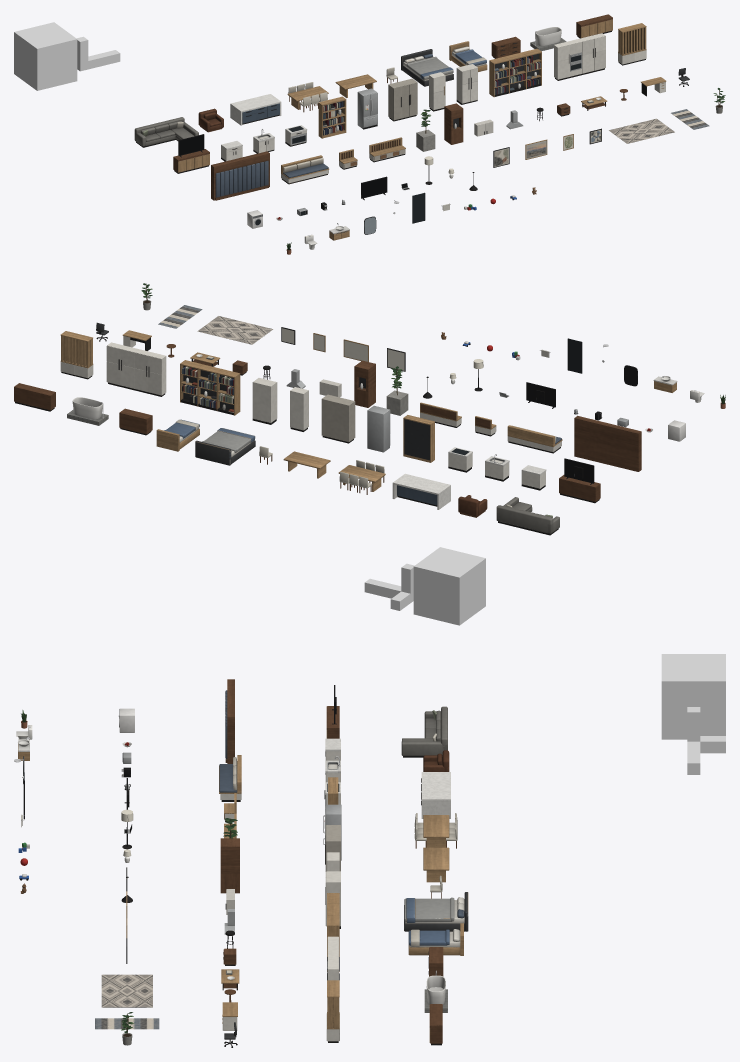
File: H_Furniture_kit.fbx
The picture shows the model from 3 angles, top to bottom: view 1: azimuth 30°, elevation 25°; view 2: azimuth 150°, elevation 25°; view 3: azimuth 270°, elevation 25°; orthographic projection. The views are drawn at different scales.
Parts seen in each view (by area): view 1: K_ScaleCube, H_HeadboardWall, H_OvenWall, H_ShelfWall__H_ShelfWall, H_Sofa_Sectional, H_Bed_Double, H_KitchenIsland, H_Wardrobe, H_SlatScreen, H_Bookcase, H_KitchenBench, H_Rug_Living (+16 smaller); view 2: K_ScaleCube, H_HeadboardWall, H_OvenWall, H_ShelfWall__H_ShelfWall, H_Bed_Double, H_Wardrobe, H_KitchenIsland, H_Sofa_Sectional, H_SlatScreen, H_Bookcase, K_Marker, H_Rug_Living (+15 smaller); view 3: K_ScaleCube, H_Bed_Double, H_Rug_Living, H_Sofa_Sectional, K_Marker, H_Bed_Single, H_KitchenIsland, H_DisplayColumn, H_KitchenBench, H_DiningTable, H_SlatScreen, H_DiningSet__H_DiningTable (+3 smaller).
Boxes of the visible parts, box(x1,y1,x2,y2) form: K_ScaleCube: box(14, 22, 77, 90); H_HeadboardWall: box(211, 151, 269, 200); H_OvenWall: box(554, 33, 605, 80); H_ShelfWall__H_ShelfWall: box(489, 48, 541, 97); H_Sofa_Sectional: box(134, 117, 198, 147); H_Bed_Double: box(401, 49, 453, 86); H_KitchenIsland: box(230, 94, 281, 125); H_Wardrobe: box(388, 78, 417, 121); H_SlatScreen: box(618, 23, 646, 65); H_Bookcase: box(318, 96, 346, 138); H_KitchenBench: box(281, 155, 329, 184); H_Rug_Living: box(609, 118, 674, 143); K_ScaleCube: box(413, 547, 485, 625); H_HeadboardWall: box(574, 415, 641, 471); H_OvenWall: box(106, 342, 166, 396); H_ShelfWall__H_ShelfWall: box(180, 360, 240, 415); H_Bed_Double: box(195, 428, 255, 465); H_Wardrobe: box(321, 394, 355, 443); H_KitchenIsland: box(392, 473, 450, 509); H_Sofa_Sectional: box(496, 497, 559, 535); H_SlatScreen: box(60, 331, 93, 379); H_Bookcase: box(403, 415, 434, 462); K_Marker: box(364, 563, 414, 610); H_Rug_Living: box(197, 316, 273, 344); K_ScaleCube: box(661, 654, 725, 739); H_Bed_Double: box(404, 892, 468, 931); H_Rug_Living: box(101, 974, 152, 1007); H_Sofa_Sectional: box(401, 706, 447, 757); K_Marker: box(687, 707, 725, 774); H_Bed_Single: box(408, 923, 463, 955); H_KitchenIsland: box(421, 772, 450, 818); H_DisplayColumn: box(220, 838, 239, 893); H_KitchenBench: box(219, 755, 241, 801); H_DiningTable: box(423, 847, 449, 882); H_SlatScreen: box(326, 980, 339, 1042); H_DiningSet__H_DiningTable: box(423, 815, 449, 847).
Bounding box in the file's own units: 12336 × 1400 × 11060.
Materials: 18 (17 with a texture image).
